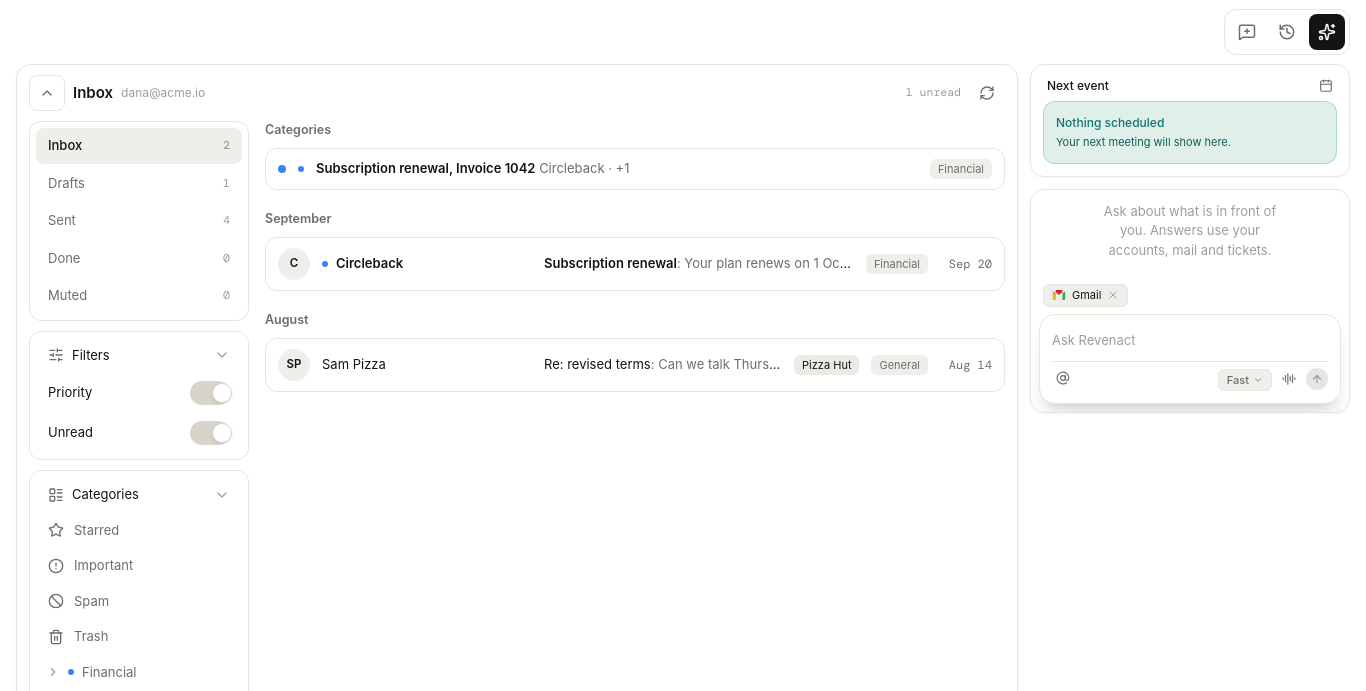
MailboxView › never shows the last message under a new one after a filter change
Expected: the element "September" is shown, left=265, top=210, right=1005, bottom=291
Click the button "Subscription renewal: Your plan renews". click: click(635, 264)
box: left=265, top=237, right=1005, bottom=291
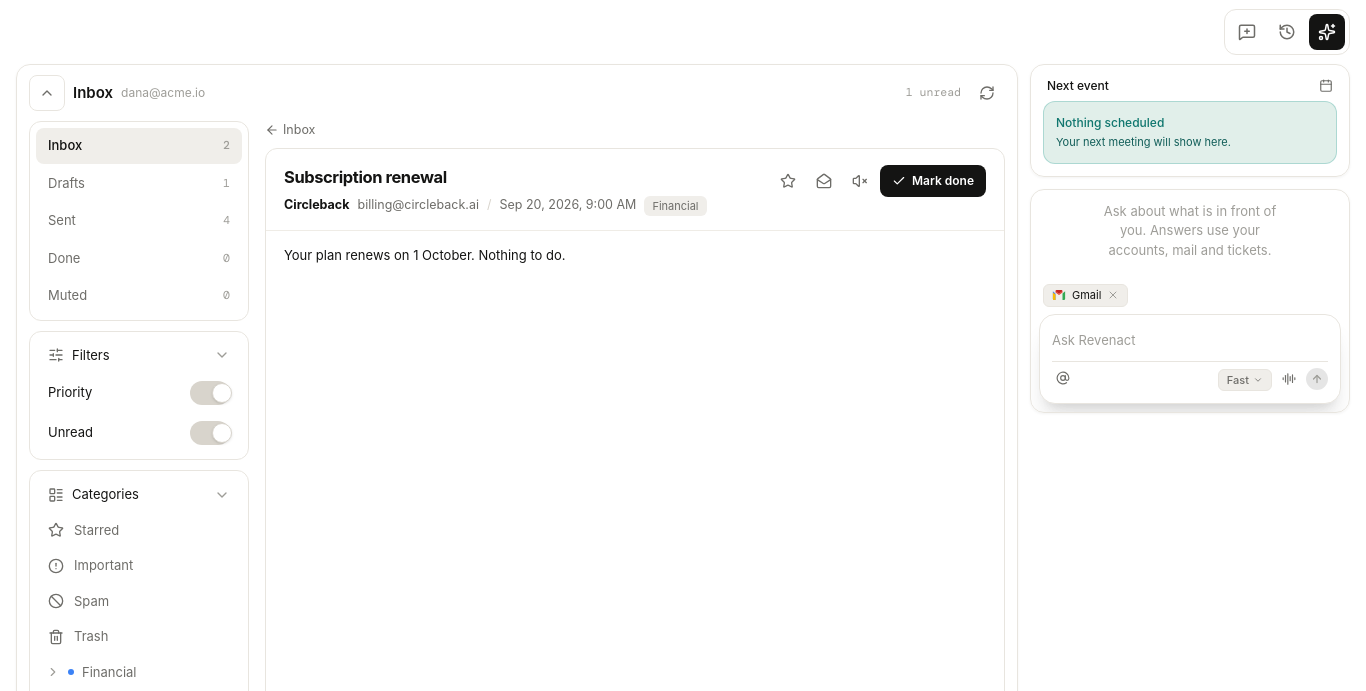
Now the text "Your plan renews on 1 October. Nothing to do." is shown, box left=284, top=247, right=566, bottom=263
Click the 2nd switch named "Unread". click: click(210, 433)
box: left=190, top=421, right=230, bottom=445
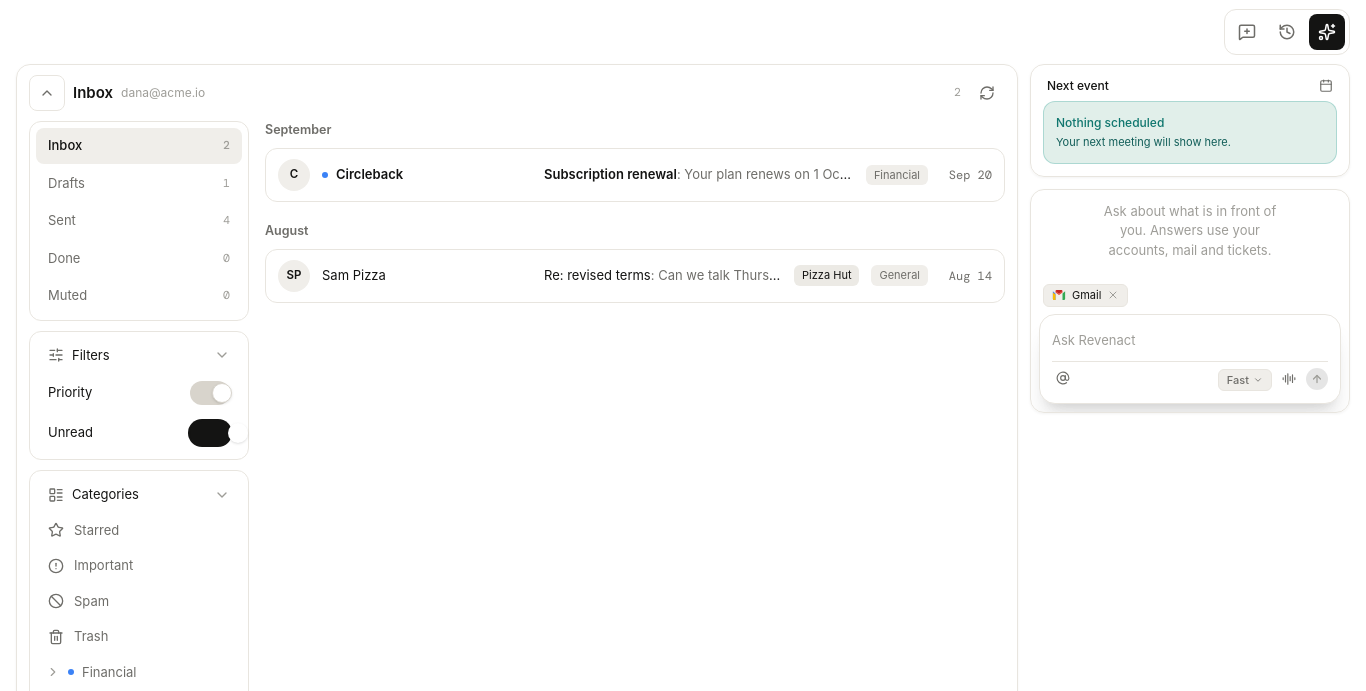
Click the button "Re: revised terms". click: click(635, 276)
box: left=265, top=248, right=1005, bottom=302
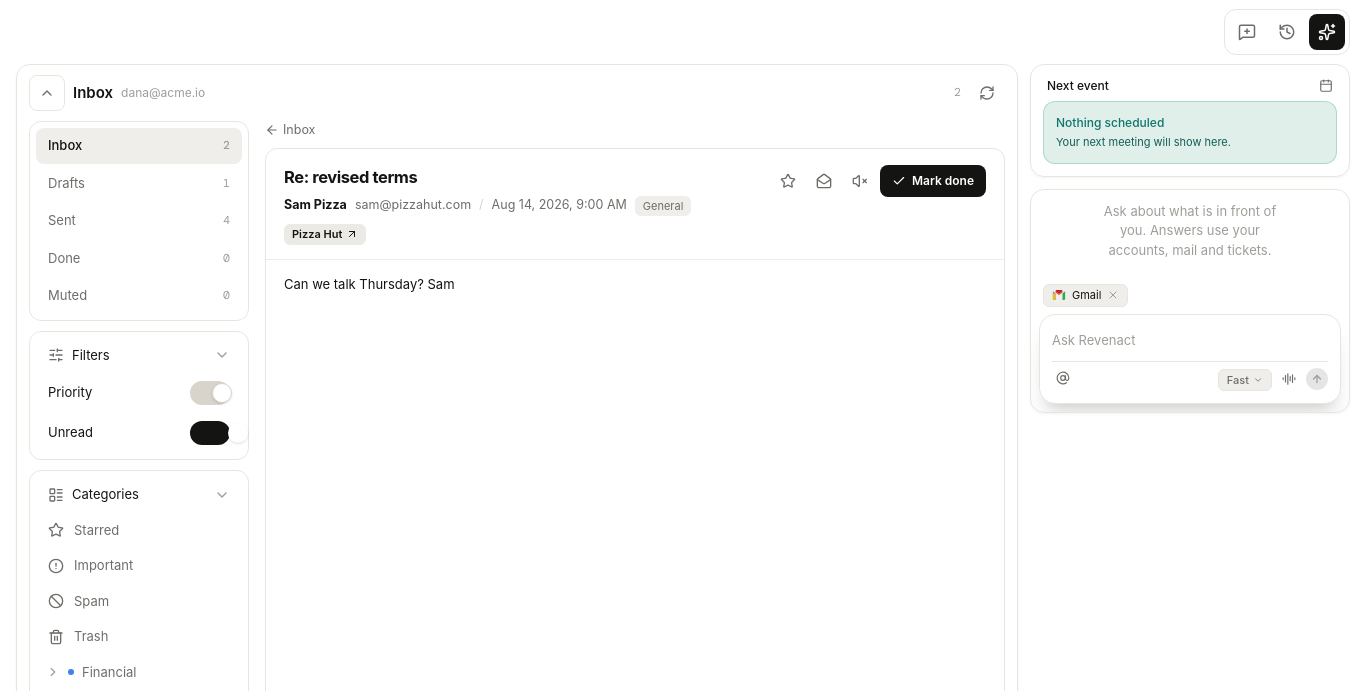
Expected: the text "Your plan renews on 1 October. Nothing to do." is not shown
Now the text "Can we talk Thursday? Sam" is shown, box left=284, top=276, right=455, bottom=292
